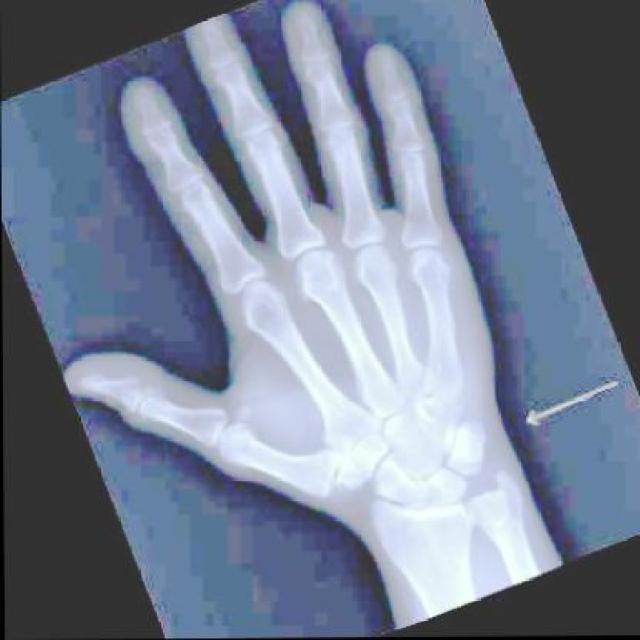Fracture: (417, 386, 470, 436)
